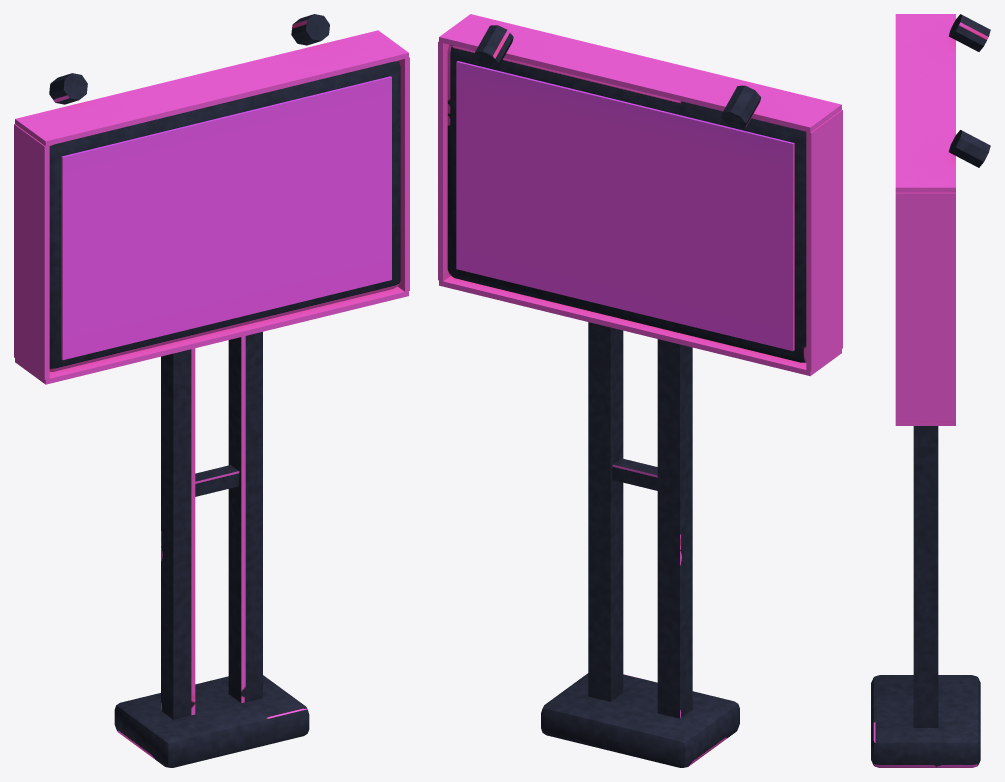
Rendered from mega_billboard.fbx.
The picture shows the model from 3 angles, left to right: view 1: azimuth 30°, elevation 25°; view 2: azimuth 150°, elevation 25°; view 3: azimuth 270°, elevation 25°; orthographic projection. The views are drawn at different scales.
Visible parts, largest first — view 1: mega_billboard, mega_billboard_glow; view 2: mega_billboard, mega_billboard_glow; view 3: mega_billboard_glow, mega_billboard.
Part boxes in pixels (box(x1,y1,x2,y2)): mega_billboard: box(49, 14, 400, 767); mega_billboard_glow: box(14, 30, 409, 384); mega_billboard: box(447, 25, 806, 767); mega_billboard_glow: box(438, 14, 842, 376); mega_billboard_glow: box(895, 14, 955, 425); mega_billboard: box(871, 14, 990, 767).
Bounding box in the file's own units: 754 × 1337 × 218.
Materials: 1 (1 with a texture image).
